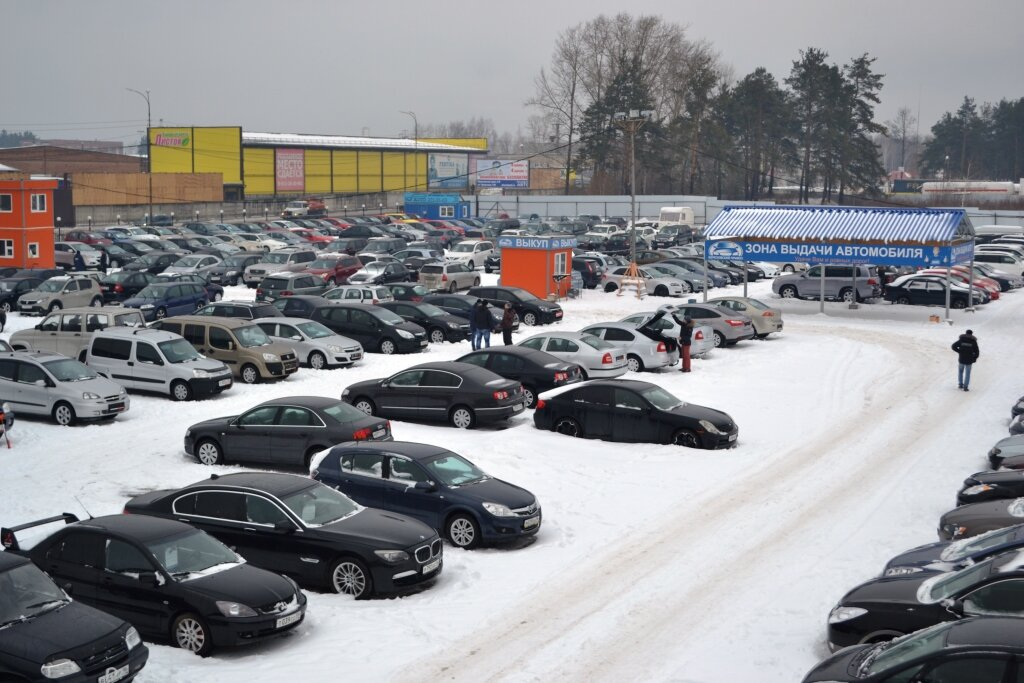Car: (0, 513, 307, 656), (123, 471, 443, 599), (308, 441, 542, 549), (0, 551, 149, 683), (826, 551, 1024, 650), (184, 396, 393, 470), (802, 618, 1024, 683), (533, 379, 739, 449), (341, 361, 526, 429), (80, 327, 233, 402), (0, 339, 129, 426), (150, 315, 298, 384), (881, 524, 1024, 576), (457, 347, 582, 406), (11, 307, 145, 361), (582, 305, 679, 372), (310, 303, 428, 354), (254, 318, 363, 370), (517, 331, 628, 380), (771, 263, 880, 303), (618, 312, 715, 355), (937, 496, 1024, 541), (380, 301, 469, 343), (465, 286, 563, 324), (420, 294, 520, 330), (125, 282, 216, 321), (674, 303, 754, 347), (18, 275, 103, 316), (883, 275, 983, 309), (707, 295, 784, 339), (243, 250, 318, 286), (917, 268, 1001, 300), (601, 266, 688, 296), (955, 470, 1024, 506), (256, 270, 329, 303), (652, 258, 730, 286), (416, 260, 481, 292), (153, 273, 225, 301), (302, 254, 362, 287), (640, 264, 713, 291), (672, 256, 745, 283), (195, 299, 284, 321), (205, 253, 264, 285), (930, 273, 989, 303), (930, 266, 1001, 290), (100, 271, 153, 303), (443, 240, 495, 270), (346, 261, 411, 285), (964, 262, 1024, 288), (121, 252, 182, 276), (0, 276, 43, 310), (957, 264, 1015, 289), (323, 285, 394, 305), (272, 294, 331, 318), (54, 241, 103, 269), (973, 250, 1024, 276), (987, 434, 1024, 469), (161, 254, 222, 275), (135, 238, 193, 256), (212, 233, 263, 253), (651, 225, 693, 249), (356, 236, 406, 256), (167, 238, 222, 256), (235, 232, 287, 251), (402, 257, 441, 282), (605, 233, 650, 254), (572, 257, 602, 288), (97, 246, 139, 268), (387, 282, 433, 302), (190, 236, 241, 254), (721, 260, 763, 281), (280, 199, 326, 218), (112, 239, 158, 257), (424, 229, 463, 250), (63, 228, 114, 244), (658, 206, 695, 228), (339, 224, 395, 238), (318, 239, 367, 255), (104, 226, 160, 240), (372, 225, 417, 242), (572, 255, 617, 272), (973, 244, 1024, 259), (13, 268, 67, 282), (386, 223, 427, 240), (419, 220, 465, 235), (463, 228, 498, 247), (289, 219, 328, 236), (138, 226, 184, 240), (180, 221, 226, 235), (262, 230, 308, 244), (288, 229, 336, 242), (484, 218, 520, 235), (306, 219, 344, 235), (355, 252, 401, 265), (626, 227, 659, 245), (877, 265, 899, 292), (623, 251, 672, 263), (390, 250, 443, 261), (747, 261, 780, 278), (585, 224, 624, 238), (66, 271, 107, 284), (575, 234, 608, 250), (406, 242, 446, 255), (974, 224, 1024, 234), (553, 220, 588, 234), (765, 261, 808, 272), (540, 216, 571, 231), (131, 215, 172, 226), (483, 248, 501, 273), (999, 454, 1024, 472), (163, 227, 203, 238), (519, 223, 553, 235), (515, 212, 542, 227), (576, 215, 602, 229), (974, 233, 1004, 245), (338, 216, 376, 225), (445, 220, 476, 231), (320, 218, 354, 228), (1010, 395, 1024, 419), (603, 217, 628, 230), (96, 231, 132, 240), (404, 221, 436, 231), (231, 223, 263, 233), (250, 220, 282, 230), (384, 213, 419, 222), (271, 220, 306, 229), (668, 246, 699, 256), (683, 243, 705, 256), (1010, 414, 1024, 434), (374, 214, 405, 223), (215, 224, 246, 233), (0, 267, 23, 279), (656, 248, 683, 258), (277, 245, 320, 251), (689, 226, 705, 242), (891, 265, 914, 276), (570, 269, 584, 287), (297, 241, 328, 249), (356, 216, 383, 225), (499, 229, 531, 236), (992, 238, 1024, 245), (628, 222, 658, 229), (459, 220, 484, 228), (609, 256, 629, 266), (0, 305, 7, 332), (404, 213, 426, 221), (486, 212, 510, 219), (473, 217, 494, 224), (571, 248, 590, 255), (1001, 234, 1024, 239), (910, 265, 923, 273)
